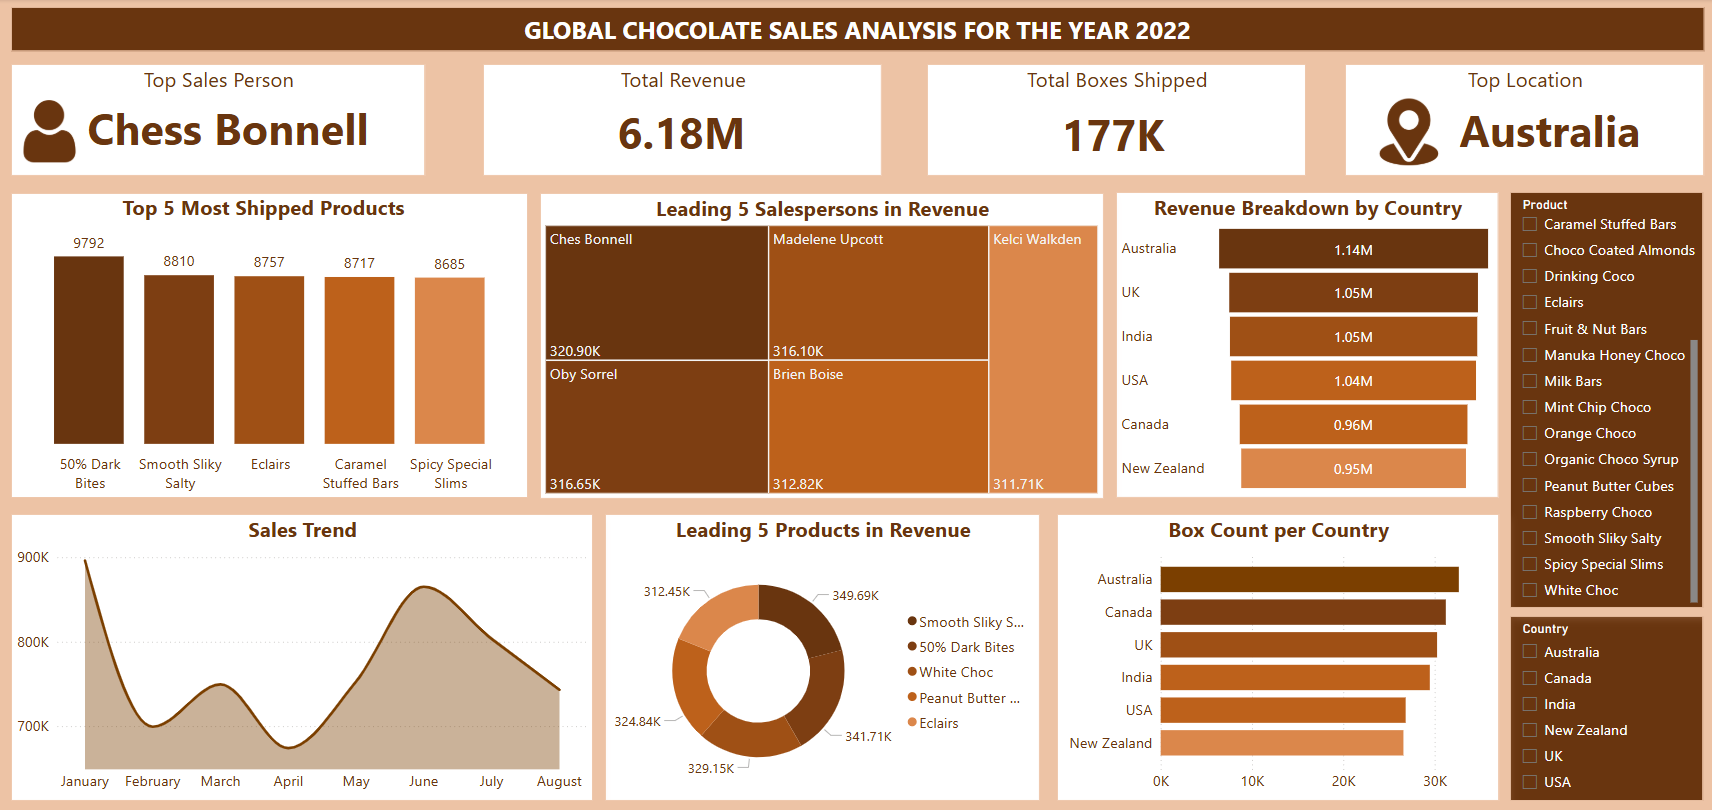

What the dashboard file says about the page in this screenshot:
{"tool":"powerbi","page":{"name":"Page 1","canvas":[1900,900],"ordinal":0},"visuals":[{"type":"textbox","box":[12.8,214.5,573.5,338],"z":0},{"type":"columnChart","title":"Top 5 Most Shipped Products","fields":{"Y":["Chocolate Sales.Boxes Shipped"],"Category":["Chocolate Sales.Product"]},"box":[0,214.5,586.3,339.2],"z":1000},{"type":"funnel","title":"Revenue Breakdown by Country","fields":{"Category":["Chocolate Sales.Country"],"Y":["Chocolate Sales.Amount"]},"box":[1238.1,213.8,423.8,339.3],"z":2000},{"type":"donutChart","title":"Leading 5 Products in Revenue","fields":{"Category":["Chocolate Sales.Product"],"Y":["Chocolate Sales.Amount"]},"box":[671.7,570.8,482.1,318.1],"z":3000},{"type":"areaChart","title":"Sales Trend","fields":{"Category":["Chocolate Sales.Date.Variation.Date Hierarchy.Month"],"Y":["Chocolate Sales.Amount"]},"box":[13.3,570.8,645.1,318.1],"z":4000},{"type":"treemap","title":"Leading 5 Salespersons in Revenue","fields":{"Group":["Chocolate Sales.Sales Person"],"Values":["Chocolate Sales.Amount"]},"box":[599.1,214.5,624.8,339.2],"z":5000},{"type":"slicer","fields":{"Values":["Chocolate Sales.Country"]},"box":[1674.8,683.9,213.9,205],"z":6000},{"type":"slicer","fields":{"Values":["Chocolate Sales.Product"]},"box":[1674.8,213.9,213.9,461.1],"z":7000},{"type":"textbox","box":[13,9.1,1876.6,49.4],"z":8000},{"type":"textbox","title":"Top Sales Person","box":[13.3,72,458.9,124.1],"z":9000},{"type":"textbox","box":[93.1,105.3,332.5,83.1],"z":10000},{"type":"textbox","title":"Total Revenue","box":[536.5,72,442.2,124.1],"z":11000},{"type":"textbox","box":[680.7,109.6,166.7,76.9],"z":12000},{"type":"textbox","title":"Total Boxes Shipped","box":[1028.6,72,420.1,124.1],"z":13000},{"type":"textbox","box":[1172.6,111.9,149.2,79.3],"z":14000},{"type":"image","box":[22.2,103.1,78.7,86.5],"z":15000},{"type":"textbox","title":"Top Location","box":[1491.9,72,397.9,124.1],"z":16000},{"type":"textbox","box":[1613.8,107.5,230.5,79.8],"z":17000},{"type":"image","box":[1510.7,105.3,103.1,84.2],"z":18000},{"type":"barChart","title":"Box Count per Country","fields":{"Category":["Chocolate Sales.Country"],"Y":["Chocolate Sales.Total Boxes"]},"box":[1172.6,571.2,489.6,318.2],"z":19000}]}

Visuals, with their boxes in screenshot pixels (x1, y1, x2, y2), scaled from the page's 1900x900 canvas onto the 1712x810 screenshot:
textbox: <box>12,193,528,497</box>
"Top 5 Most Shipped Products" columnChart: <box>0,193,528,498</box>
"Revenue Breakdown by Country" funnel: <box>1116,192,1497,498</box>
"Leading 5 Products in Revenue" donutChart: <box>605,514,1040,800</box>
"Sales Trend" areaChart: <box>12,514,593,800</box>
"Leading 5 Salespersons in Revenue" treemap: <box>540,193,1103,498</box>
slicer - Chocolate Sales.Country: <box>1509,616,1702,800</box>
slicer - Chocolate Sales.Product: <box>1509,193,1702,608</box>
textbox: <box>12,8,1703,53</box>
"Top Sales Person" textbox: <box>12,65,425,176</box>
textbox: <box>84,95,383,170</box>
"Total Revenue" textbox: <box>483,65,882,176</box>
textbox: <box>613,99,764,168</box>
"Total Boxes Shipped" textbox: <box>927,65,1305,176</box>
textbox: <box>1057,101,1191,172</box>
image: <box>20,93,91,171</box>
"Top Location" textbox: <box>1344,65,1703,176</box>
textbox: <box>1454,97,1662,169</box>
image: <box>1361,95,1454,171</box>
"Box Count per Country" barChart: <box>1057,514,1498,800</box>
